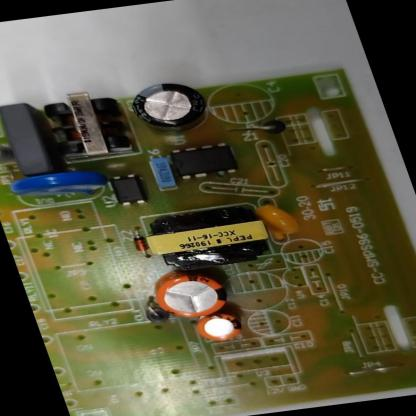Cap1: (149, 268, 230, 320)
Cap2: (192, 312, 244, 342)
Cap3: (125, 78, 209, 136)
MOSFET: (165, 142, 239, 180)
Mov: (7, 167, 106, 203)
Resistor: (0, 139, 16, 166)
Transformer: (139, 202, 278, 272), (36, 87, 138, 162)
